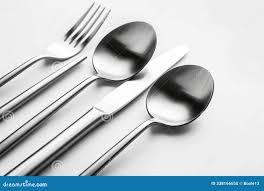Knife: (0, 20, 157, 174)
